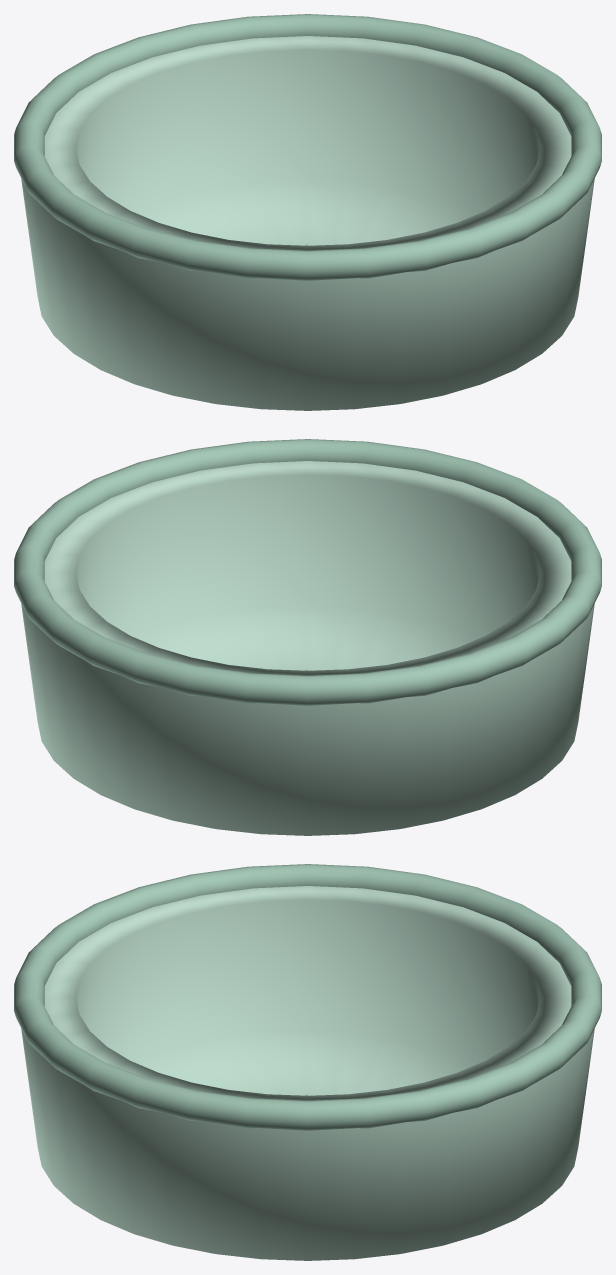
Rendered from huaiyang_tool_celadon_bowl.glb.
3 renders of one model, top to bottom at view 1: azimuth 30°, elevation 25°; view 2: azimuth 150°, elevation 25°; view 3: azimuth 270°, elevation 25°, orthographic.
Size of the model in its own units: 0.306 by 0.123 by 0.3043.
